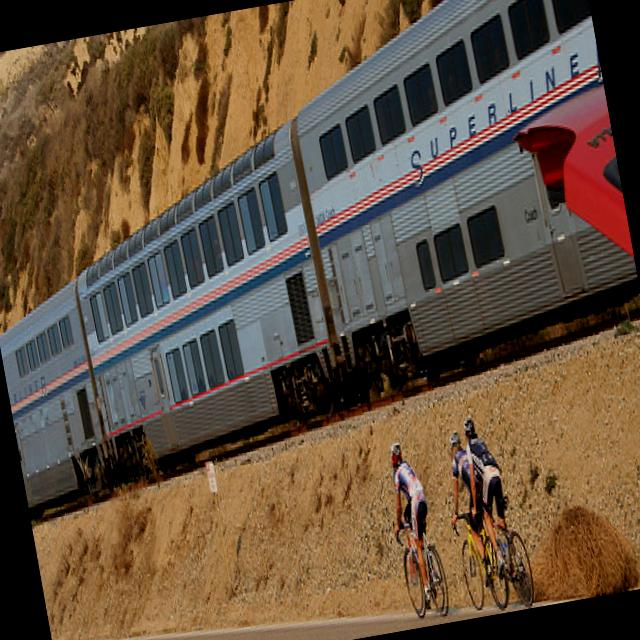Vehicle: (503, 79, 639, 303)
